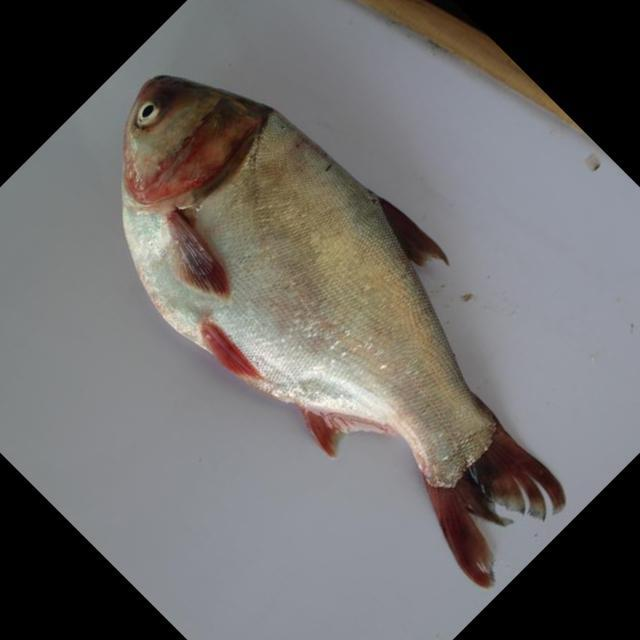SilverCarp: (116, 72, 569, 590)
